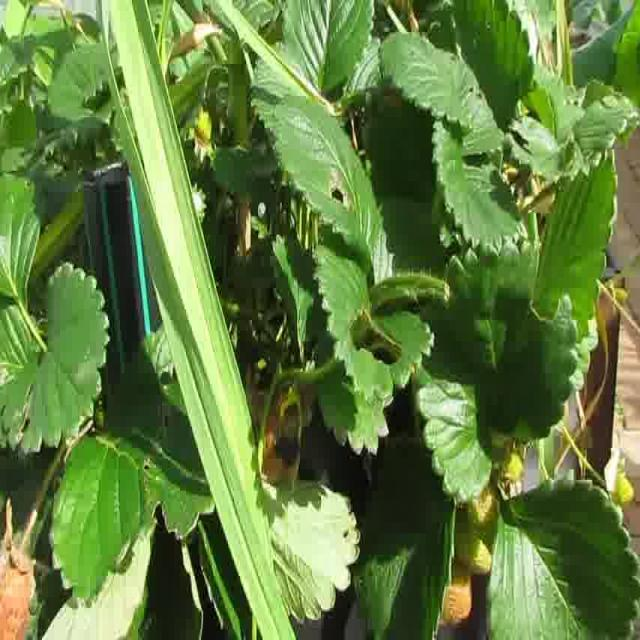Moho gris: (0, 520, 37, 640)
